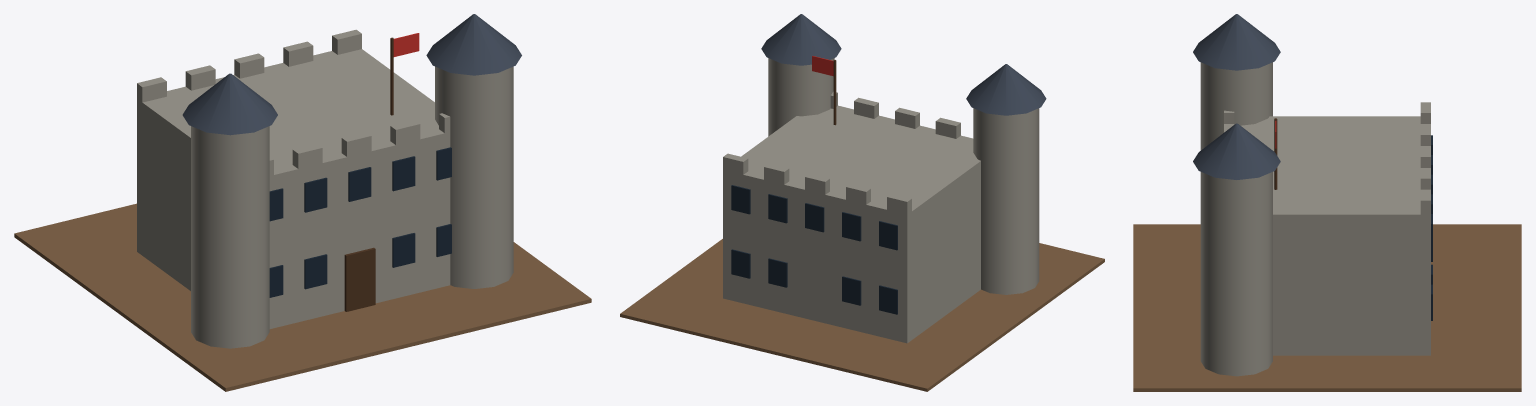
Rendered from bld_special_command_center_a03.glb.
3 views of the same model, side by side, from view 1: azimuth 30°, elevation 25°; view 2: azimuth 150°, elevation 25°; view 3: azimuth 270°, elevation 25° (orthographic). The views are drawn at different scales.
Visible parts, largest first — view 1: body; view 2: body; view 3: body.
Part boxes in pixels (x1,y1,x2,y2): body: [14, 14, 591, 391]; body: [620, 14, 1104, 391]; body: [1133, 14, 1521, 391].
Size of what is drawn, in the model's own units: 15 by 10.25 by 15.
